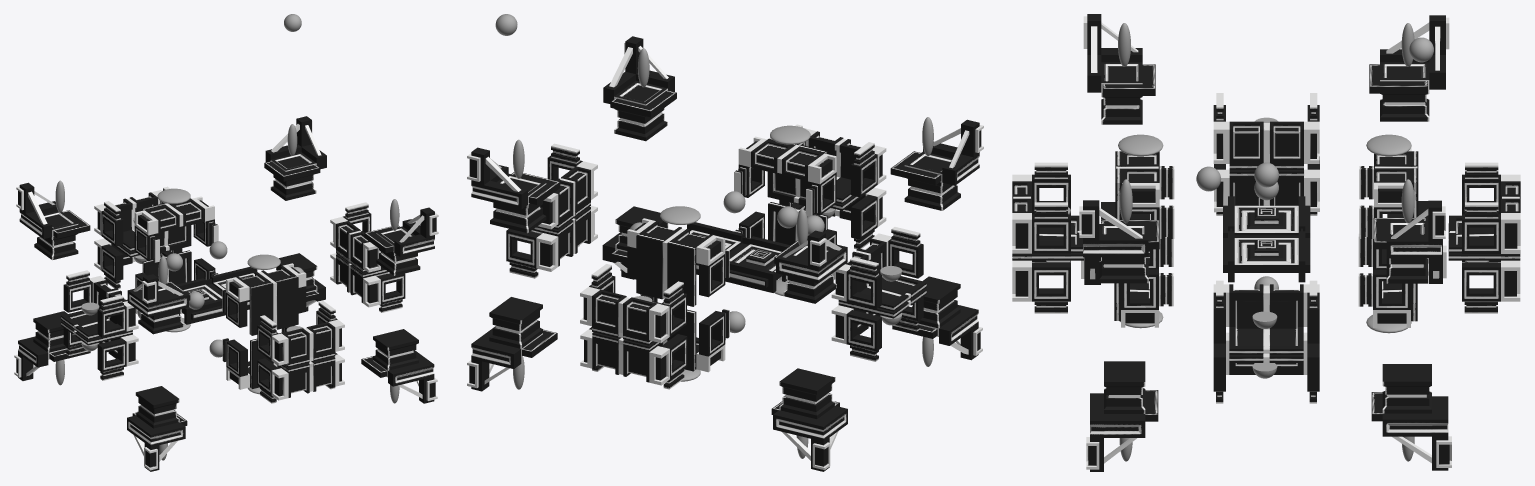
File: arena with collisions10.fbx
The picture shows the model from 3 angles, left to right: view 1: azimuth 30°, elevation 25°; view 2: azimuth 150°, elevation 25°; view 3: azimuth 270°, elevation 25°; orthographic projection. The views are drawn at different scales.
Visible parts, largest first — view 1: plat2_9, plat2_11, plat2_4, plat2_7, plat1_2, plat1_8, plat1_5, plat1_4, plat1_6, plat2_8, plat1_1, plat2_2 (+9 smaller); view 2: plat2_11, plat2_9, plat2_4, plat2_5, plat1_3, plat1_1, plat1_7, plat1_6, plat1_5, plat2_6, plat1_2, plat1_4 (+11 smaller); view 3: plat2_1, plat3_1, plat1_7, plat2_4, plat2_5, plat2_7, plat1_4, plat1_8, plat1_1, plat1_6, plat1_5, plat2_9 (+11 smaller).
Part boxes in pixels (x1,y1,x2,y2): plat2_9: (222, 263, 306, 335); plat2_11: (134, 196, 218, 262); plat2_4: (61, 270, 138, 339); plat2_7: (257, 301, 344, 367); plat1_2: (127, 386, 187, 471); plat1_8: (361, 329, 437, 403); plat1_5: (264, 116, 326, 200); plat1_4: (16, 182, 90, 260); plat1_6: (364, 207, 438, 275); plat2_8: (257, 352, 344, 403); plat1_1: (127, 274, 190, 334); plat2_2: (330, 253, 405, 312); plat2_11: (627, 218, 729, 306); plat2_9: (734, 136, 836, 216); plat2_4: (831, 227, 926, 311); plat2_5: (580, 264, 686, 345); plat1_3: (771, 368, 847, 471); plat1_1: (890, 119, 983, 210); plat1_7: (467, 297, 557, 391); plat1_6: (603, 36, 676, 141); plat1_5: (467, 147, 560, 233); plat2_6: (580, 327, 687, 389); plat1_2: (892, 276, 982, 360); plat1_4: (774, 230, 847, 303); plat2_1: (1213, 280, 1319, 354); plat3_1: (1223, 196, 1310, 282); plat1_7: (1371, 364, 1451, 470); plat2_4: (1213, 93, 1319, 169); plat2_5: (1449, 162, 1520, 253); plat2_7: (1012, 162, 1082, 253); plat1_4: (1369, 15, 1449, 121); plat1_8: (1086, 361, 1158, 471); plat1_1: (1083, 14, 1155, 124); plat1_6: (1079, 200, 1159, 283); plat1_5: (1373, 200, 1445, 283); plat2_9: (1115, 151, 1174, 238).
Size of what is drawn, in the model's own units: 1248 by 1152 by 1245.
4 materials, 3 textured.
